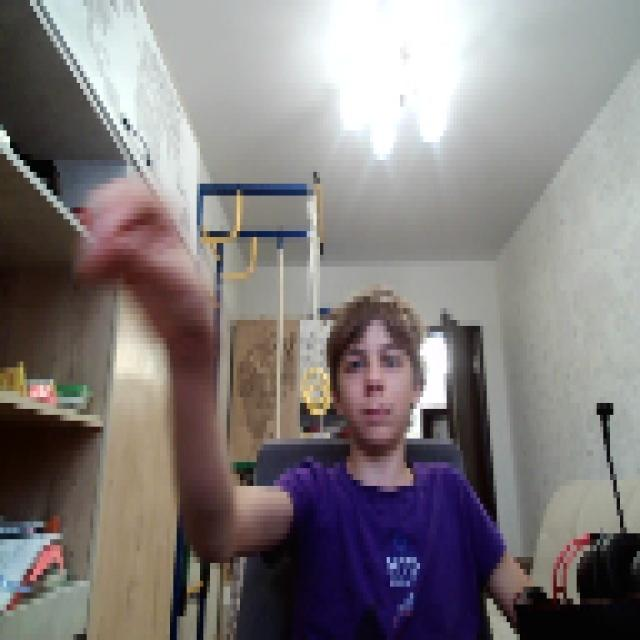left_click: (63, 166, 207, 326)
